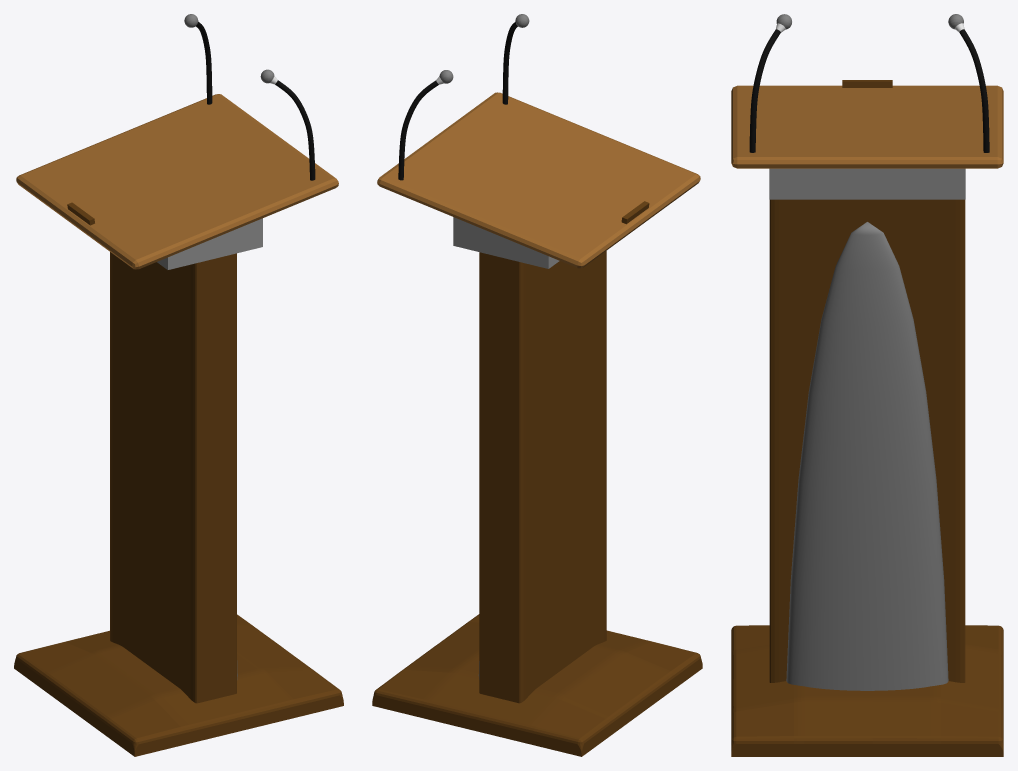
The model's file is Podio.fbx.
3 renders of one model, left to right at view 1: azimuth 30°, elevation 25°; view 2: azimuth 150°, elevation 25°; view 3: azimuth 270°, elevation 25°, orthographic. The views are drawn at different scales.
Visible parts, largest first — view 1: Plane.001, Cube, Plane, Plane.002, Cylinder.004; view 2: Plane.001, Cube, Plane, Plane.002, Cylinder; view 3: Sphere, Plane.001, Plane, Cube, Plane.002, Cylinder.004, Cylinder.
Boxes of the visible parts, x1=… form: Plane.001: x1=110, y1=252, x2=236, y2=703; Cube: x1=16, y1=94, x2=338, y2=269; Plane: x1=14, y1=614, x2=343, y2=756; Plane.002: x1=157, y1=218, x2=262, y2=269; Cylinder.004: x1=275, y1=80, x2=315, y2=180; Plane.001: x1=479, y1=251, x2=606, y2=703; Cube: x1=377, y1=92, x2=700, y2=268; Plane: x1=372, y1=614, x2=702, y2=756; Plane.002: x1=453, y1=217, x2=559, y2=268; Cylinder: x1=398, y1=80, x2=438, y2=180; Sphere: x1=786, y1=222, x2=948, y2=690; Plane.001: x1=769, y1=199, x2=965, y2=682; Plane: x1=731, y1=625, x2=1003, y2=756; Cube: x1=731, y1=85, x2=1003, y2=168; Plane.002: x1=769, y1=168, x2=965, y2=199; Cylinder.004: x1=749, y1=29, x2=780, y2=152; Cylinder: x1=959, y1=29, x2=989, y2=152.
Bounding box in the file's own units: 200 × 577 × 200.
